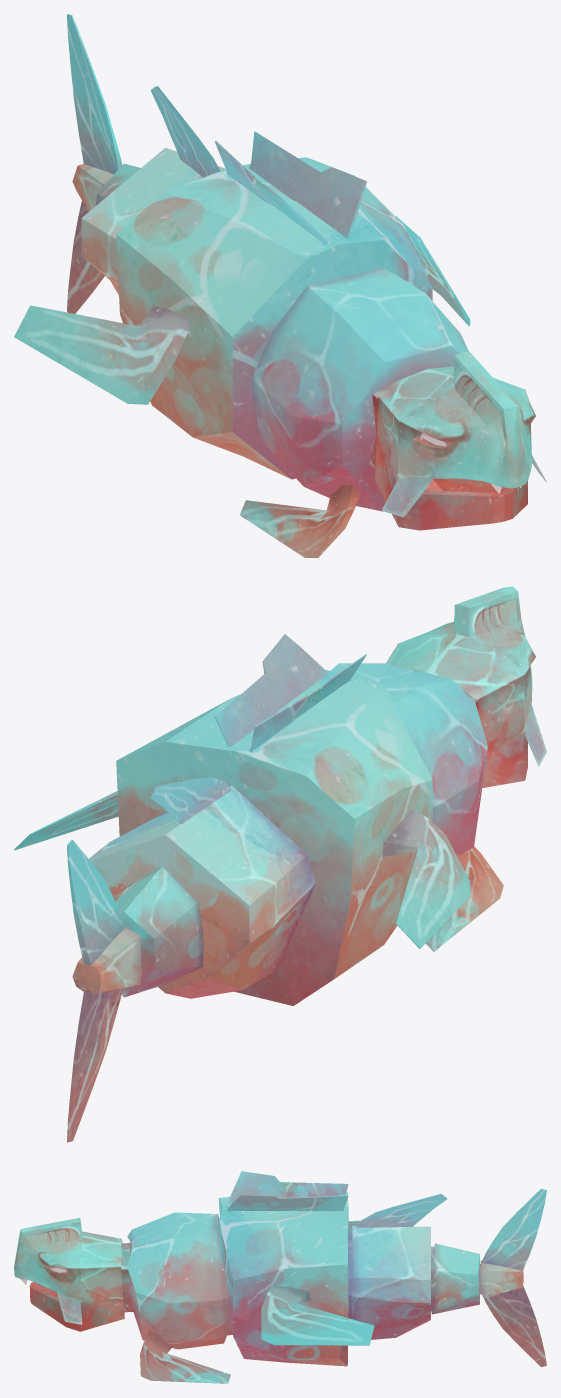
The model's file is enemy02.glb.
3 renders of one model, top to bottom at view 1: azimuth 30°, elevation 25°; view 2: azimuth 150°, elevation 25°; view 3: azimuth 270°, elevation 25°, orthographic. The views are drawn at different scales.
Visible parts, largest first — view 1: Mesh_bream_map_0; view 2: Mesh_bream_map_0; view 3: Mesh_bream_map_0.
Part boxes in pixels (box(x1,y1,x2,y2)): Mesh_bream_map_0: box(14, 14, 546, 557); Mesh_bream_map_0: box(14, 586, 546, 1142); Mesh_bream_map_0: box(14, 1171, 546, 1383).
Bounding box in the file's own units: 4.93 × 3.61 × 9.48.
Materials: 1 (1 with a texture image).
